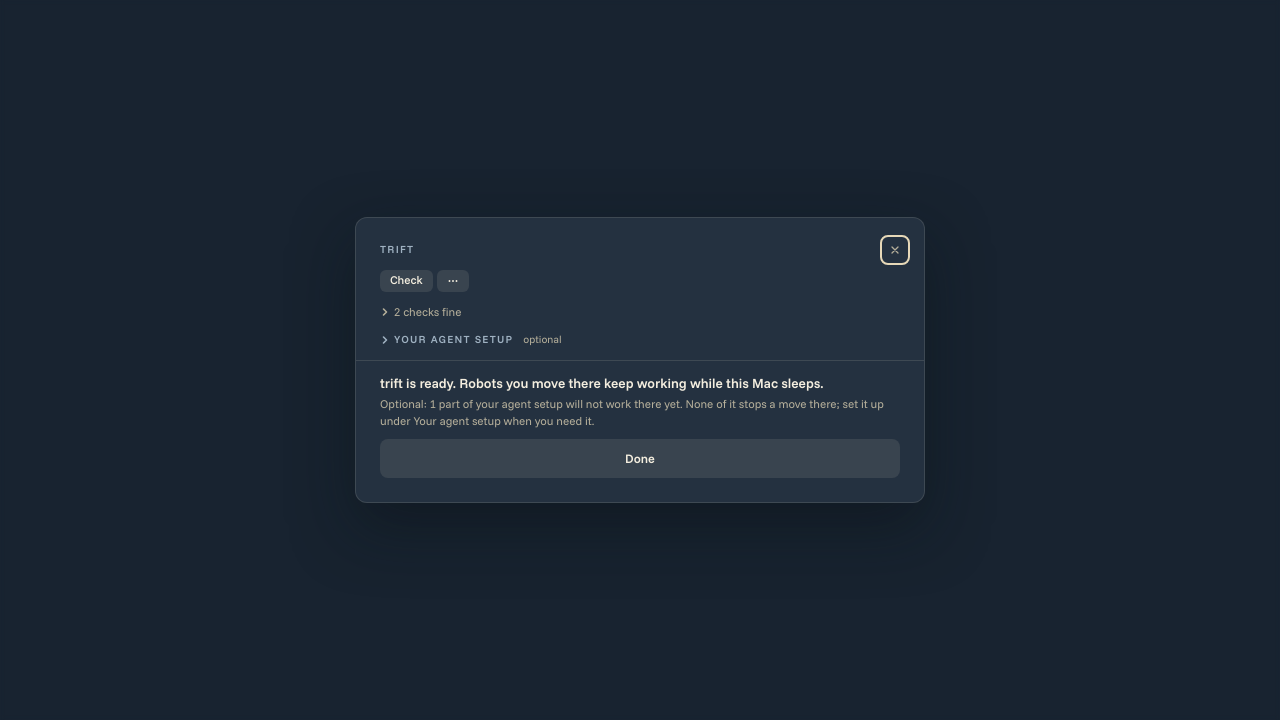
a mirror row is one sentence, a tick and its details; the tick asks svalld and the rows it answers stand in place
This screenshot has width=1280, height=720.
Click the button with test id "host-setup-fold": {"x": 471, "y": 340} [380,332,562,348]
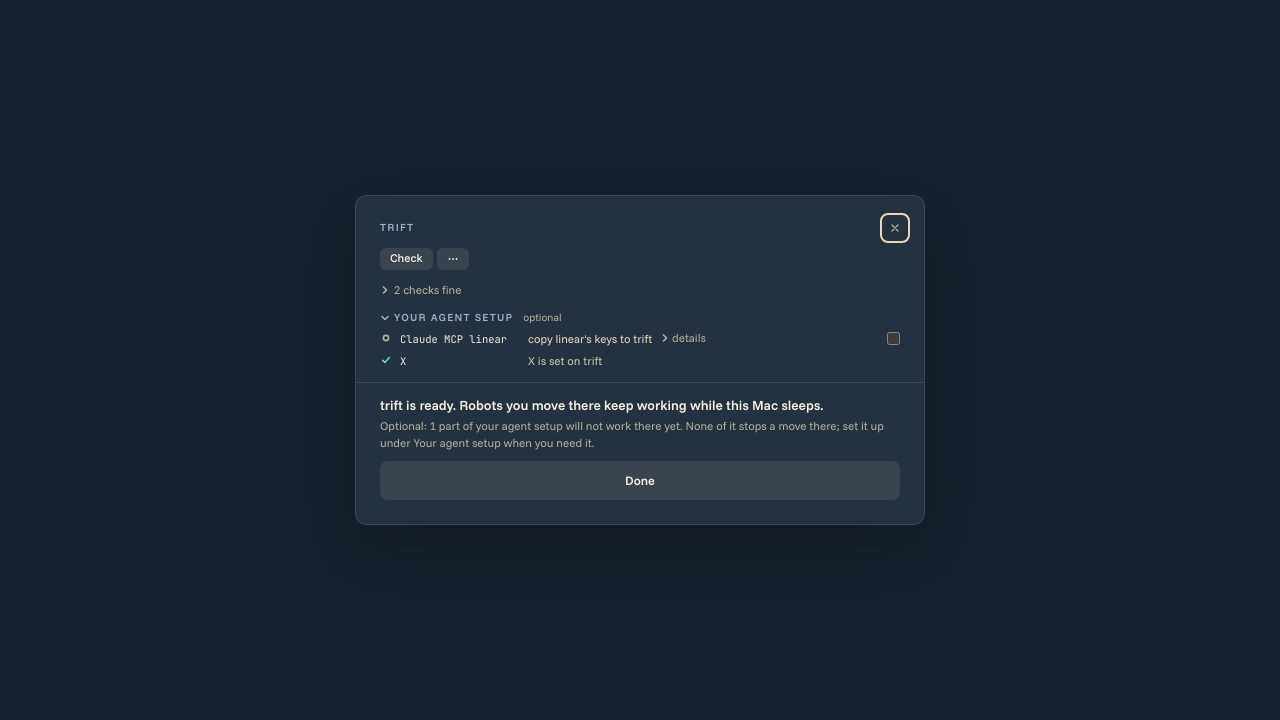
expect the text with test id "host-outcome-note" shows "Optional: 1 part of your agent setup will not work there yet. None of it stops a move there; set it up under Your agent setup when you need it.": met, box [380,418,884,450]
expect the text with class "host-name" reads "Claude MCP linear": met, box [400,332,507,346]
expect the text with test id "host-action-mirror:claude:mcp:linear" reads "copy linear's keys to trift": met, box [528,331,652,346]
Click the checkbox with test id "host-tick-mirror:claude:mcp:linear": {"x": 894, "y": 338} [887,332,900,345]
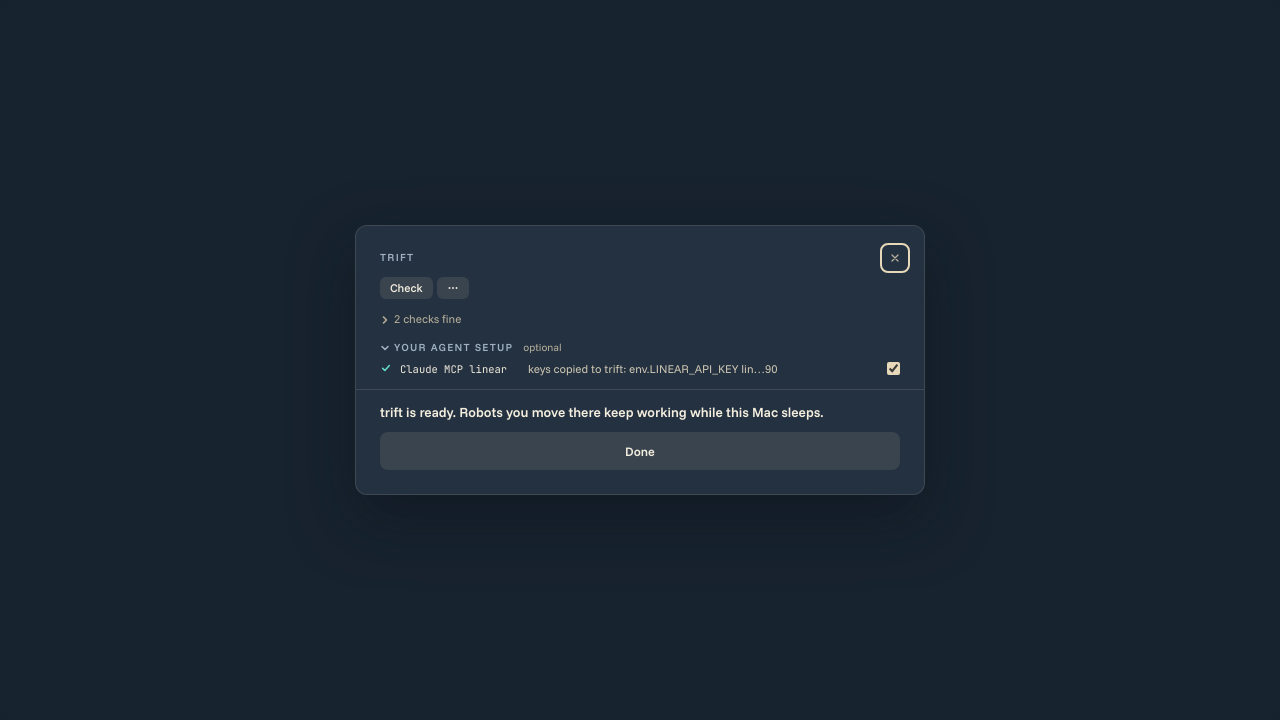
expect the checkbox with test id "host-tick-mirror:claude:mcp:linear" is checked: met, box [887,362,900,374]
expect the element with test id "host-outcome" reads "trift is ready. Robots you move there keep working while this Mac sleeps. Done": met, box [356,389,924,470]
